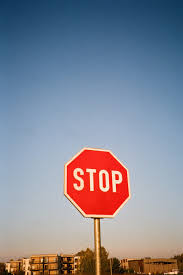SS: (64, 145, 131, 219)
